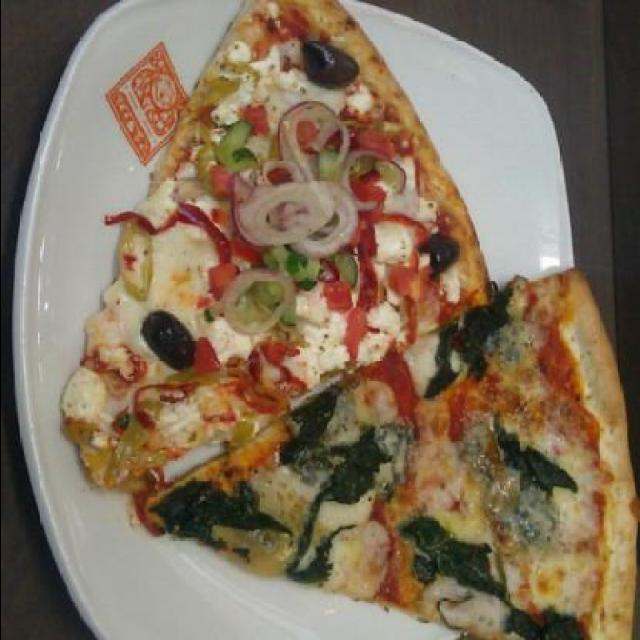Pizza: (127, 263, 639, 639)
